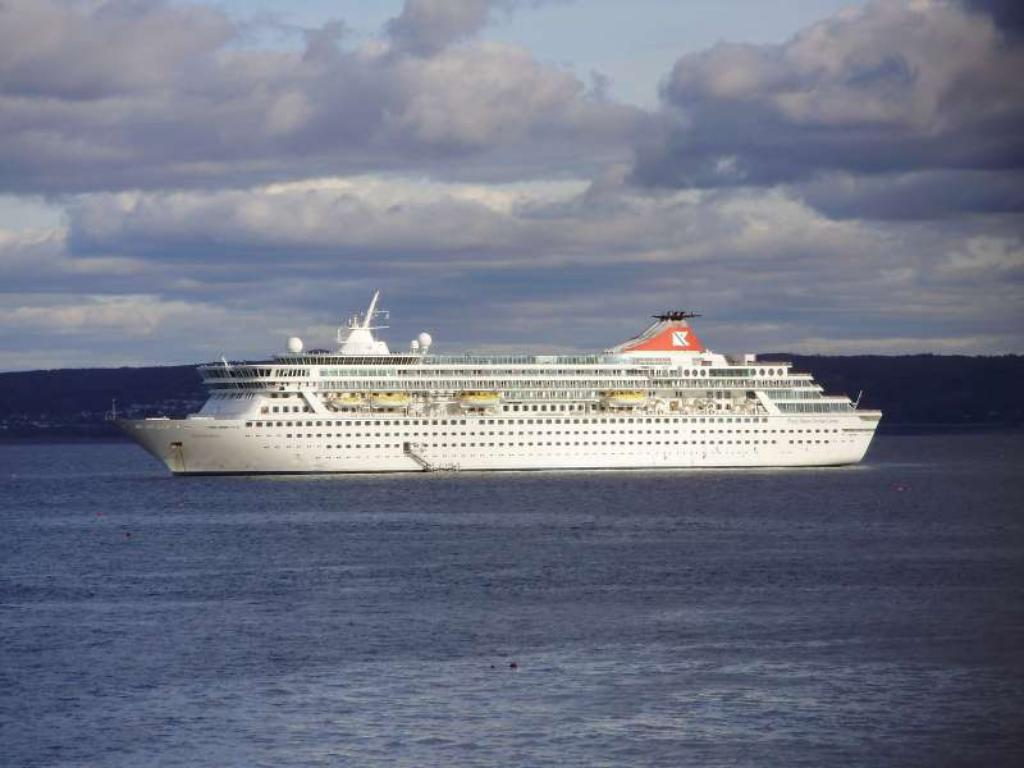PassengerShip: (104, 290, 892, 480)
